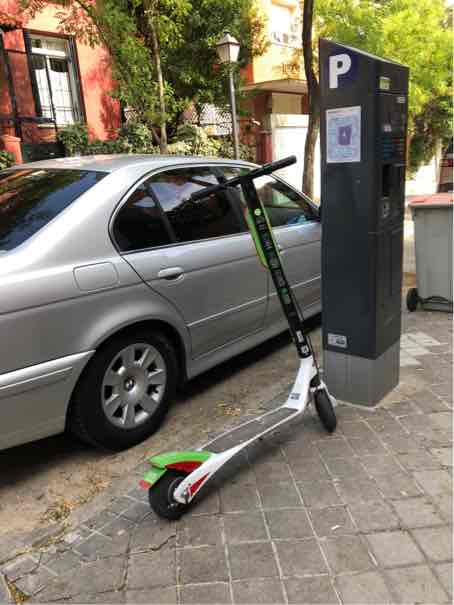scooter: (135, 144, 354, 538)
